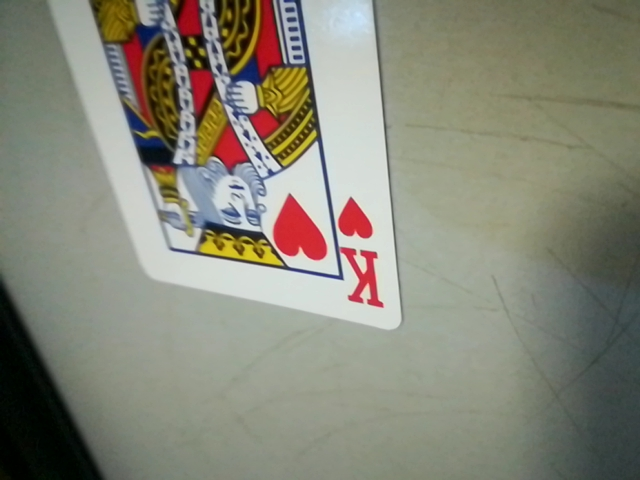hx k: (329, 192, 396, 317)
